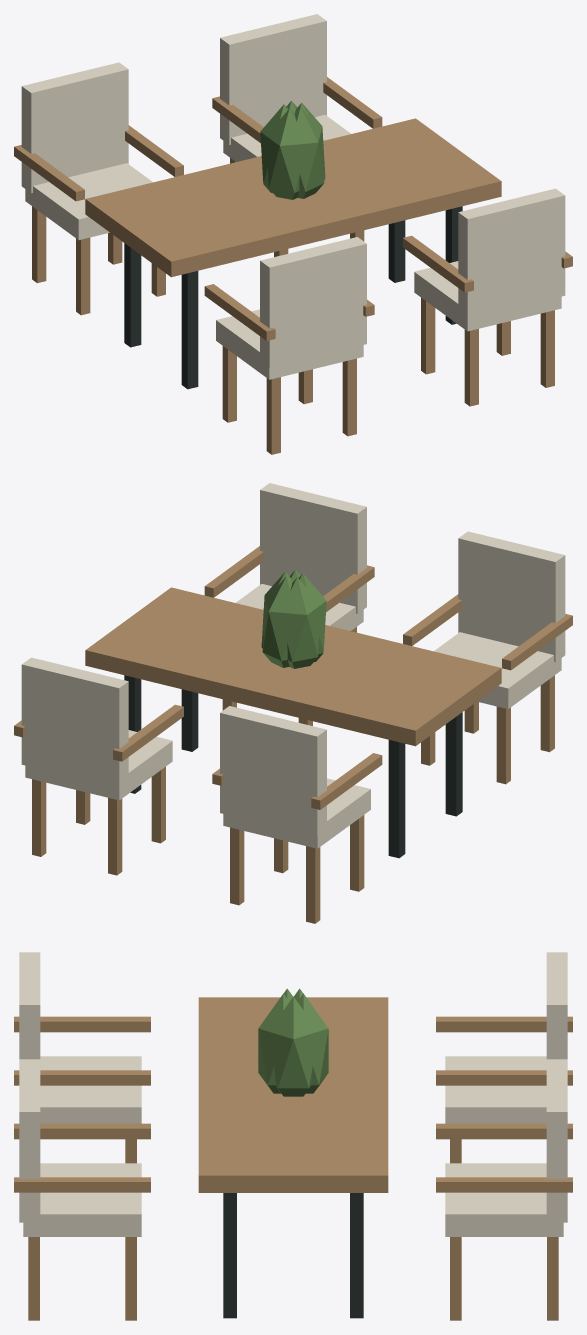
The model's file is dining.glb.
The picture shows the model from 3 angles, top to bottom: view 1: azimuth 30°, elevation 25°; view 2: azimuth 150°, elevation 25°; view 3: azimuth 270°, elevation 25°; orthographic projection. The views are drawn at different scales.
Visible parts, largest first — view 1: dining_Len, dining_Modrin, dining_Antracit, dining_Zelen; view 2: dining_Len, dining_Modrin, dining_Antracit, dining_Zelen; view 3: dining_Modrin, dining_Len, dining_Zelen, dining_Antracit.
Boxes of the visible parts, x1,y1,x2,y2 form: dining_Len: (21,14,565,379); dining_Modrin: (14,77,572,454); dining_Antracit: (124,206,462,389); dining_Zelen: (260,101,325,199); dining_Len: (21,483,565,848); dining_Modrin: (14,546,572,923); dining_Antracit: (124,675,462,858); dining_Zelen: (261,570,326,668); dining_Modrin: (14,997,572,1320); dining_Len: (19,952,567,1236); dining_Zelen: (258,988,328,1096); dining_Antracit: (223,1193,363,1318).
Size of the model in its own units: 2 by 1.32 by 2.65.
